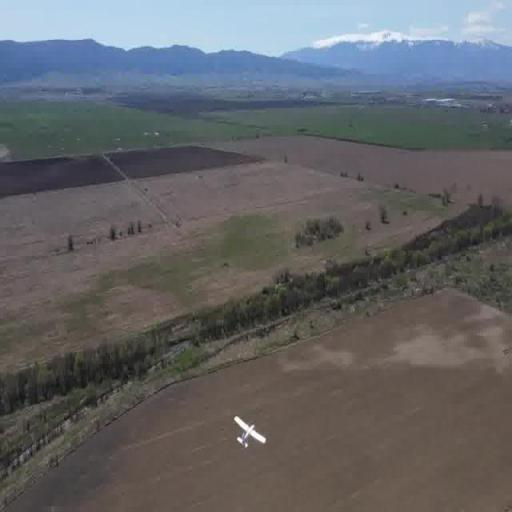uav: (230, 412, 270, 455)
